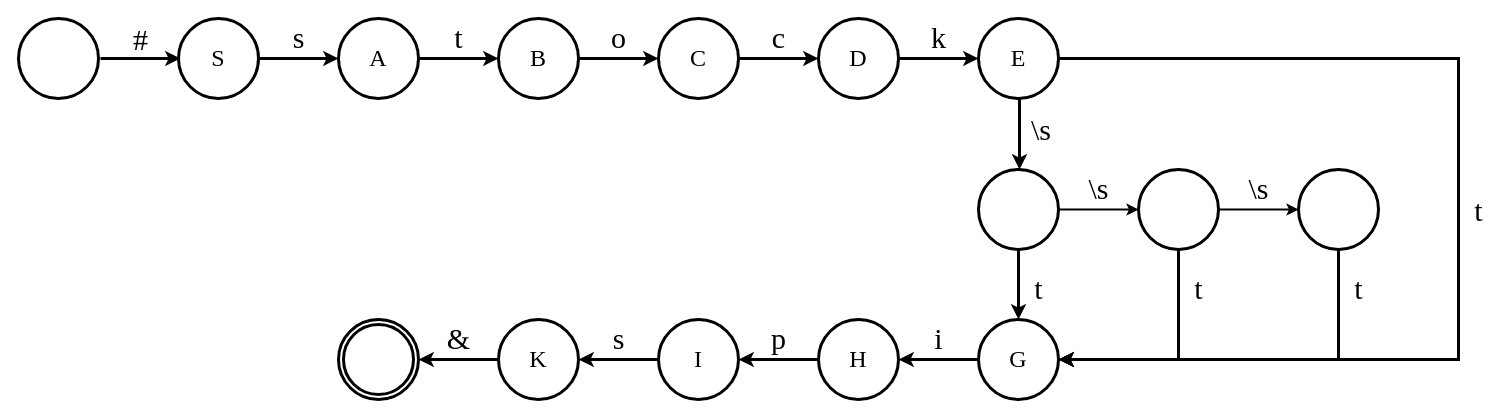
This 1500x418 diagram has some shape labels left out. The shapes that lost their labels are listed below. From the top down, each one's centre as x and y in pixels, then its label:
(x=58, y=58): S 0
(x=1018, y=209): E1
(x=1178, y=209): E2
(x=1338, y=209): E3
(x=378, y=359): q f
